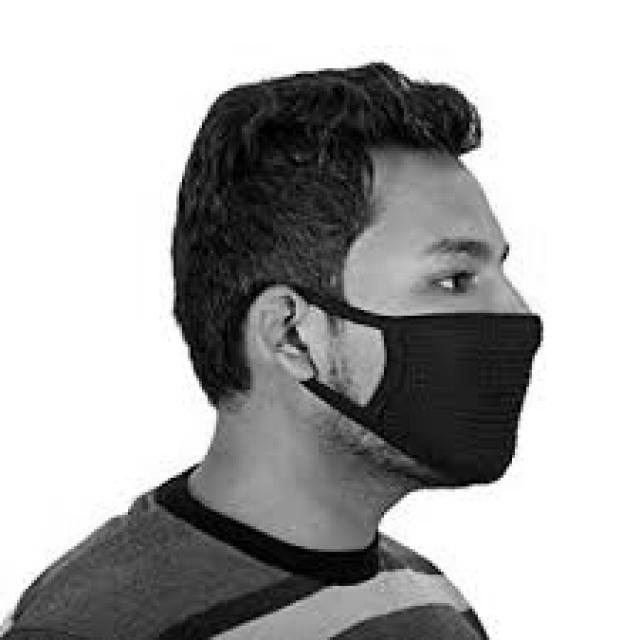fake: (356, 307, 551, 508)
real: (346, 147, 553, 498)
